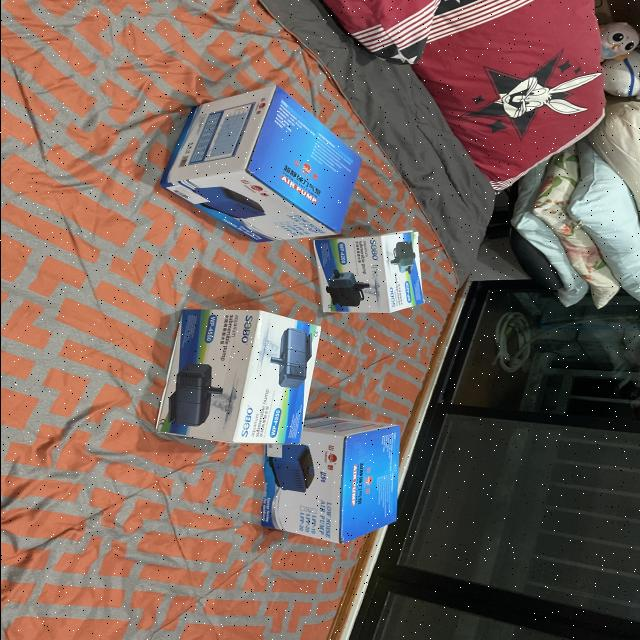SOBO_WP_4200: (126, 304, 332, 472), (308, 228, 426, 322)
YAMANO_LPP_20: (156, 82, 378, 248), (248, 418, 410, 552)
